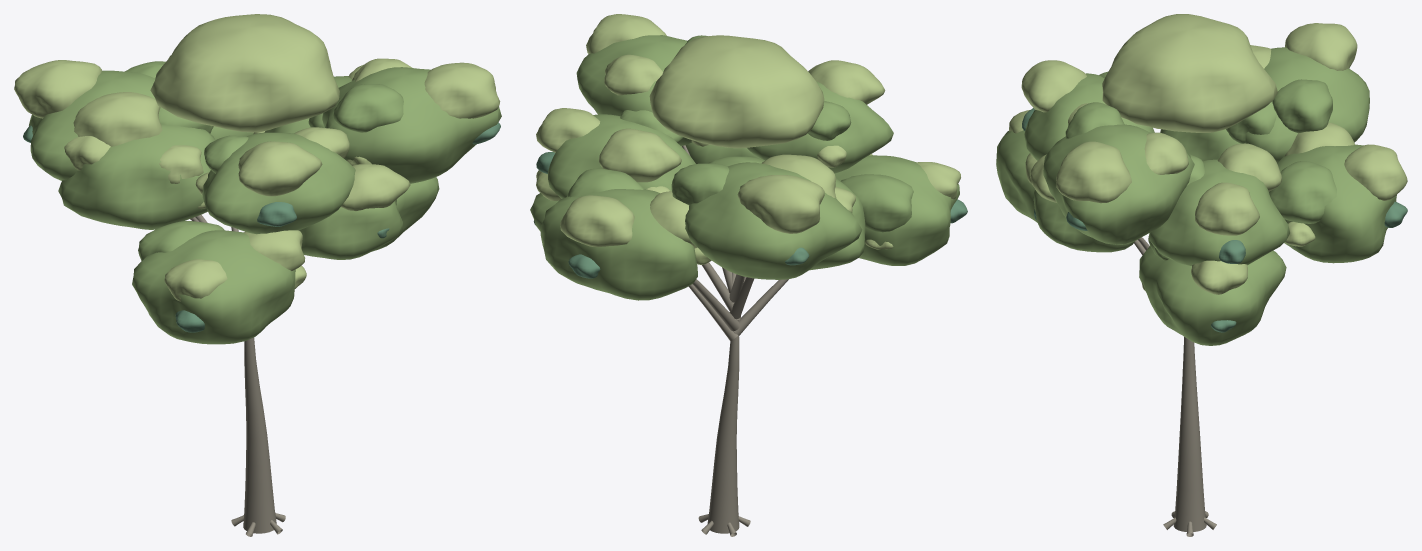
File: diotree12.glb
The picture shows the model from 3 angles, left to right: view 1: azimuth 30°, elevation 25°; view 2: azimuth 150°, elevation 25°; view 3: azimuth 270°, elevation 25°; orthographic projection. The views are drawn at different scales.
Parts seen in each view (by area): view 1: DioTree12_DioLeaf, DioTree12_DioLeafLight, DioTree12_Trunk, DioTree12_DioLeafShade; view 2: DioTree12_DioLeaf, DioTree12_DioLeafLight, DioTree12_Trunk, DioTree12_DioLeafShade; view 3: DioTree12_DioLeaf, DioTree12_DioLeafLight, DioTree12_Trunk, DioTree12_DioLeafShade.
Part boxes in pixels (x1,y1,x2,y2): DioTree12_DioLeaf: (29, 61, 501, 344); DioTree12_DioLeafLight: (14, 14, 500, 301); DioTree12_Trunk: (190, 214, 285, 536); DioTree12_DioLeafShade: (23, 122, 500, 332); DioTree12_DioLeaf: (530, 35, 959, 300); DioTree12_DioLeafLight: (536, 14, 960, 264); DioTree12_Trunk: (681, 145, 788, 536); DioTree12_DioLeafShade: (533, 152, 967, 278); DioTree12_DioLeaf: (996, 47, 1396, 345); DioTree12_DioLeafLight: (1009, 14, 1407, 294); DioTree12_Trunk: (1134, 237, 1216, 536); DioTree12_DioLeafShade: (1022, 108, 1407, 332).
Bounding box in the file's own units: 10.44 × 13.43 × 10.19.
